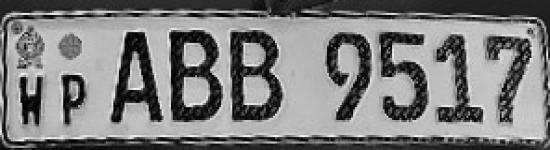1: (435, 35, 484, 120)
5: (382, 32, 429, 123)
7: (490, 37, 533, 124)
9: (328, 32, 374, 121)
A: (110, 30, 166, 124)
B: (169, 30, 224, 123), (231, 30, 283, 120)
P: (60, 70, 88, 125)
W: (21, 73, 43, 125)
